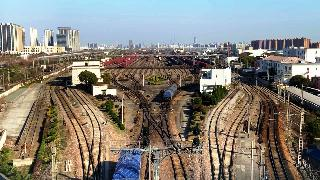train: (112, 147, 141, 180), (164, 84, 177, 101)
